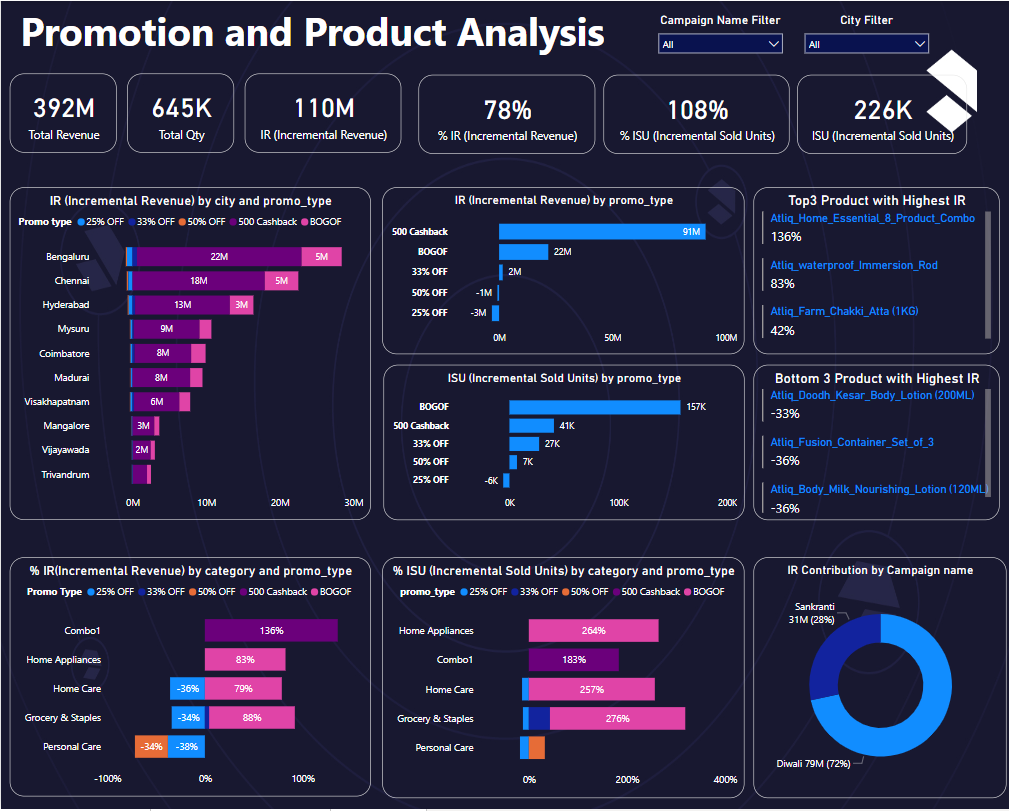

Layout of this report page (visuals, bound fields, positions):
{"tool":"powerbi","page":{"name":"Promotion analysis","canvas":[1400,1120],"ordinal":1},"visuals":[{"type":"barChart","fields":{"Category":["fact_events.promo_type"],"Y":["key Measures.IR (Incremental Revenue)"]},"box":[527.8,257.4,501.9,231.5],"z":0},{"type":"barChart","fields":{"Category":["fact_events.promo_type"],"Y":["key Measures.ISU (Incremental Sold Units)"]},"box":[529.6,503.7,500,214.8],"z":1000},{"type":"barChart","fields":{"Category":["dim_stores.city"],"Y":["key Measures.IR (Incremental Revenue)"],"Series":["fact_events.promo_type"]},"box":[13,257.4,500,461.1],"z":2000},{"type":"donutChart","title":"IR Contribution by Campaign name","fields":{"Category":["dim_campaigns.campaign_name"],"Y":["key Measures.IR (Incremental Revenue)"]},"box":[1042.6,770.4,350,333.3],"z":3000},{"type":"barChart","fields":{"Category":["dim_products.category"],"Y":["key Measures.% ISU (Incremental Sold Units)"],"Series":["fact_events.promo_type"]},"box":[527.8,770.4,501.9,333.3],"z":4000},{"type":"barChart","fields":{"Series":["fact_events.promo_type"],"Category":["dim_products.category"],"Y":["key Measures.% IR(Incremental Revenue)"]},"box":[13,770.4,500,331.5],"z":5000},{"type":"multiRowCard","title":"Top3 Product with Highest IR","fields":{"Values":["dim_products.product_name","key Measures.% IR(Incremental Revenue)"]},"box":[1042.6,257.4,340.7,231.5],"z":6000},{"type":"multiRowCard","title":"Bottom 3 Product with Highest IR","fields":{"Values":["dim_products.product_name","key Measures.% IR(Incremental Revenue)"]},"box":[1042.6,503.7,340.7,214.8],"z":7000},{"type":"card","fields":{"Values":["key Measures.Total Revenue"]},"box":[13,100,148.1,109.3],"z":8000},{"type":"card","fields":{"Values":["key Measures.IR (Incremental Revenue)"]},"box":[337,100,216.7,109.3],"z":9000},{"type":"card","fields":{"Values":["key Measures.% IR(Incremental Revenue)"]},"box":[577.8,101.9,244.4,109.3],"z":10000},{"type":"card","fields":{"Values":["key Measures.ISU (Incremental Sold Units)"]},"box":[1101.9,101.9,235.2,109.3],"z":11000},{"type":"card","fields":{"Values":["key Measures.Total Qty"]},"box":[174.1,100,148.1,109.3],"z":12000},{"type":"card","fields":{"Values":["key Measures.% ISU (Incremental Sold Units)"]},"box":[835.2,101.9,257.4,109.3],"z":13000},{"type":"textbox","box":[0,0,862.1,86.6],"z":14000},{"type":"slicer","title":"Campaign Name Filter","fields":{"Values":["dim_campaigns.campaign_name"]},"box":[900.2,15.6,192.1,71],"z":15000},{"type":"slicer","title":"City Filter","fields":{"Values":["dim_stores.city"]},"box":[1102.7,15.6,192.1,71],"z":16000}]}

Visuals, with their boxes in screenshot pixels (x1, y1, x2, y2), scaled from the page's 1400x1120 canvas onto the 1009x811 screenshot:
barChart - fact_events.promo_type x key Measures.IR (Incremental Revenue): (x1=380, y1=186, x2=742, y2=354)
barChart - fact_events.promo_type x key Measures.ISU (Incremental Sold Units): (x1=382, y1=365, x2=742, y2=520)
barChart - dim_stores.city x key Measures.IR (Incremental Revenue): (x1=9, y1=186, x2=370, y2=520)
"IR Contribution by Campaign name" donutChart: (x1=751, y1=558, x2=1004, y2=799)
barChart - dim_products.category x key Measures.% ISU (Incremental Sold Units): (x1=380, y1=558, x2=742, y2=799)
barChart - fact_events.promo_type x dim_products.category: (x1=9, y1=558, x2=370, y2=798)
"Top3 Product with Highest IR" multiRowCard: (x1=751, y1=186, x2=997, y2=354)
"Bottom 3 Product with Highest IR" multiRowCard: (x1=751, y1=365, x2=997, y2=520)
card - key Measures.Total Revenue: (x1=9, y1=72, x2=116, y2=152)
card - key Measures.IR (Incremental Revenue): (x1=243, y1=72, x2=399, y2=152)
card - key Measures.% IR(Incremental Revenue): (x1=416, y1=74, x2=593, y2=153)
card - key Measures.ISU (Incremental Sold Units): (x1=794, y1=74, x2=964, y2=153)
card - key Measures.Total Qty: (x1=125, y1=72, x2=232, y2=152)
card - key Measures.% ISU (Incremental Sold Units): (x1=602, y1=74, x2=787, y2=153)
textbox: (x1=0, y1=0, x2=621, y2=63)
"Campaign Name Filter" slicer: (x1=649, y1=11, x2=787, y2=63)
"City Filter" slicer: (x1=795, y1=11, x2=933, y2=63)
